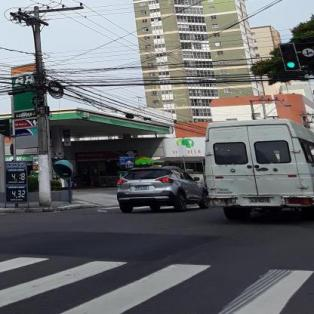Poste: (32, 6, 54, 207)
